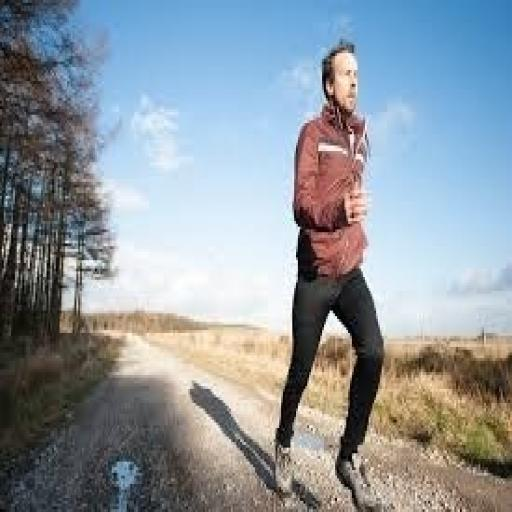running: (270, 36, 389, 510)
